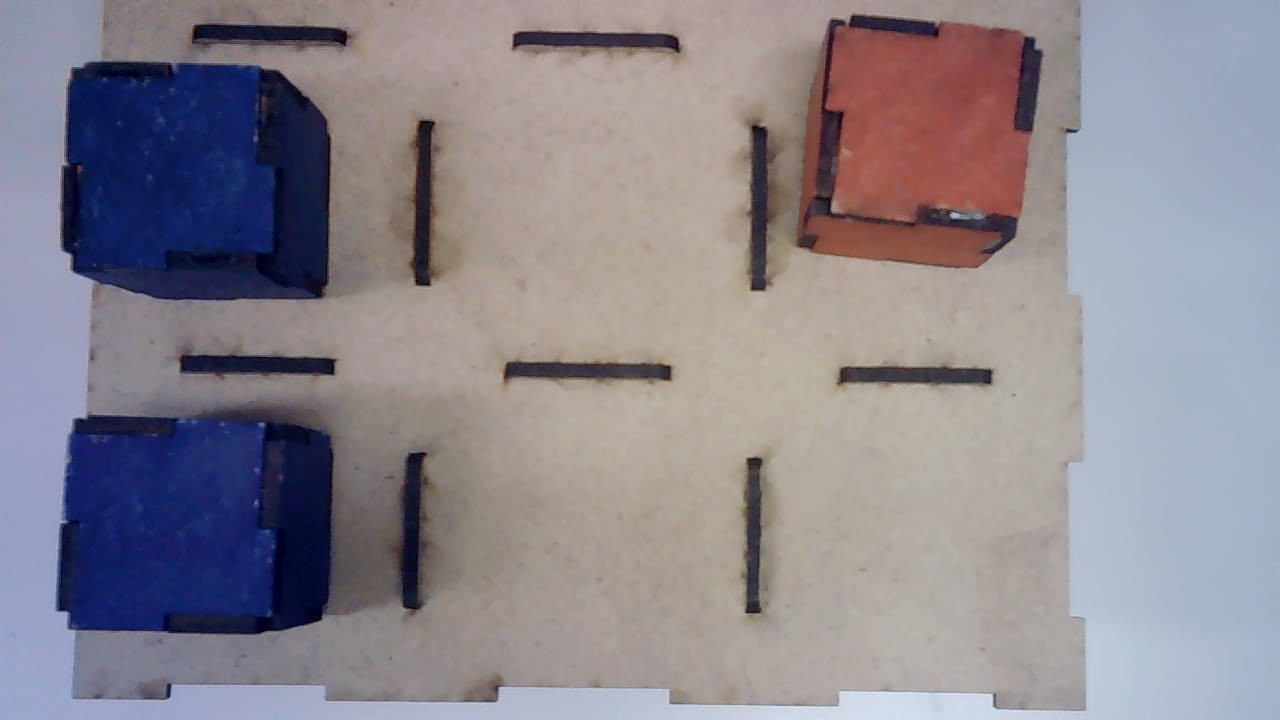blue box: (59, 59, 331, 304), (56, 417, 325, 631)
red box: (794, 12, 1040, 272)
